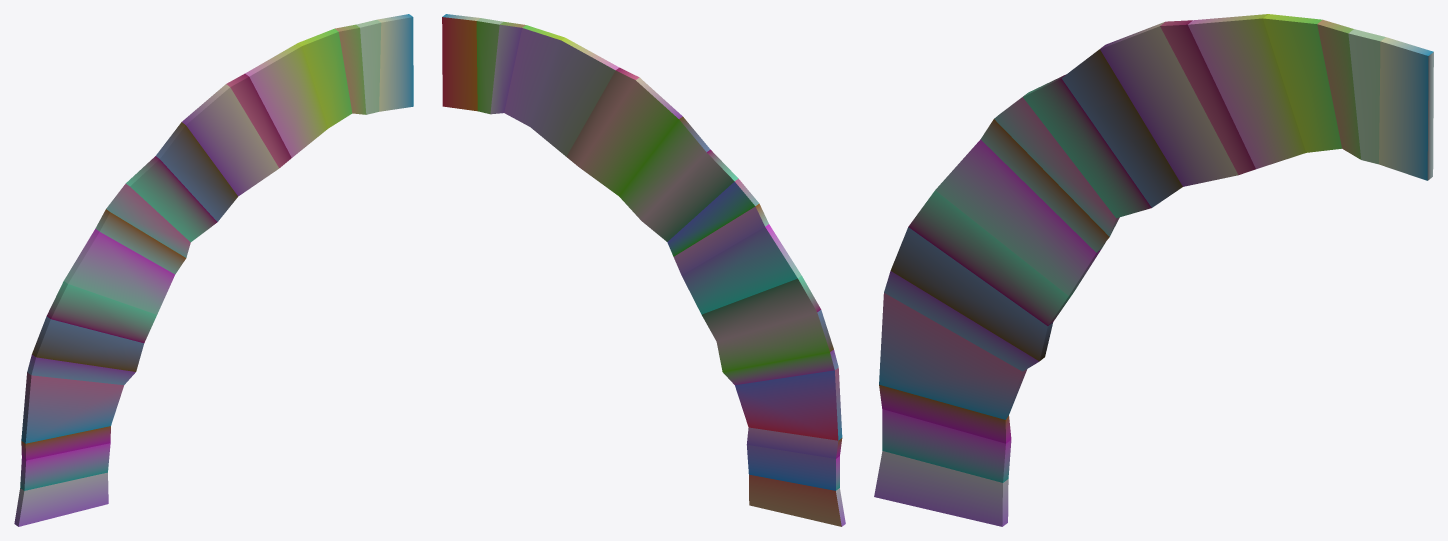
Rendered from Dock_CurveB_lod1.glb.
3 renders of one model, left to right at view 1: azimuth 30°, elevation 25°; view 2: azimuth 150°, elevation 25°; view 3: azimuth 330°, elevation 25°, orthographic. The views are drawn at different scales.
Visible parts, largest first — view 1: MeshNode_0; view 2: MeshNode_0; view 3: MeshNode_0.
Part boxes in pixels (x1=…): MeshNode_0: x1=14, y1=14, x2=413, y2=526; MeshNode_0: x1=442, y1=14, x2=845, y2=526; MeshNode_0: x1=874, y1=14, x2=1433, y2=526.
Size of the model in its own units: 72.22 by 72.81 by 3.04.
